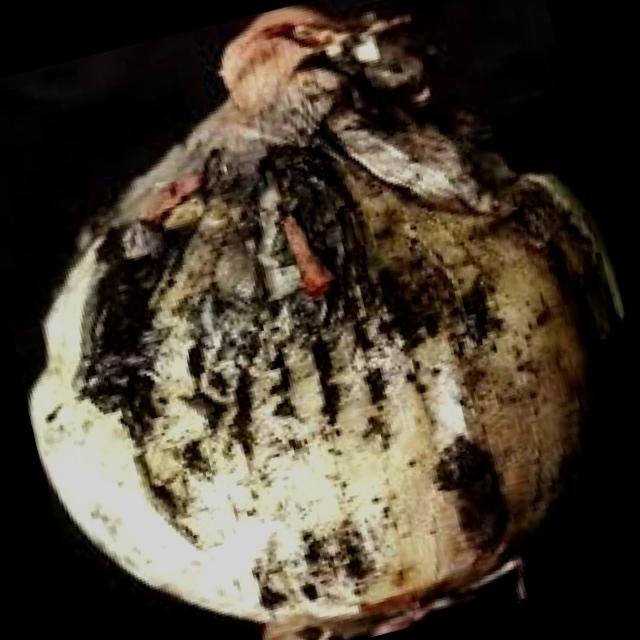rotten: (30, 6, 623, 640)
